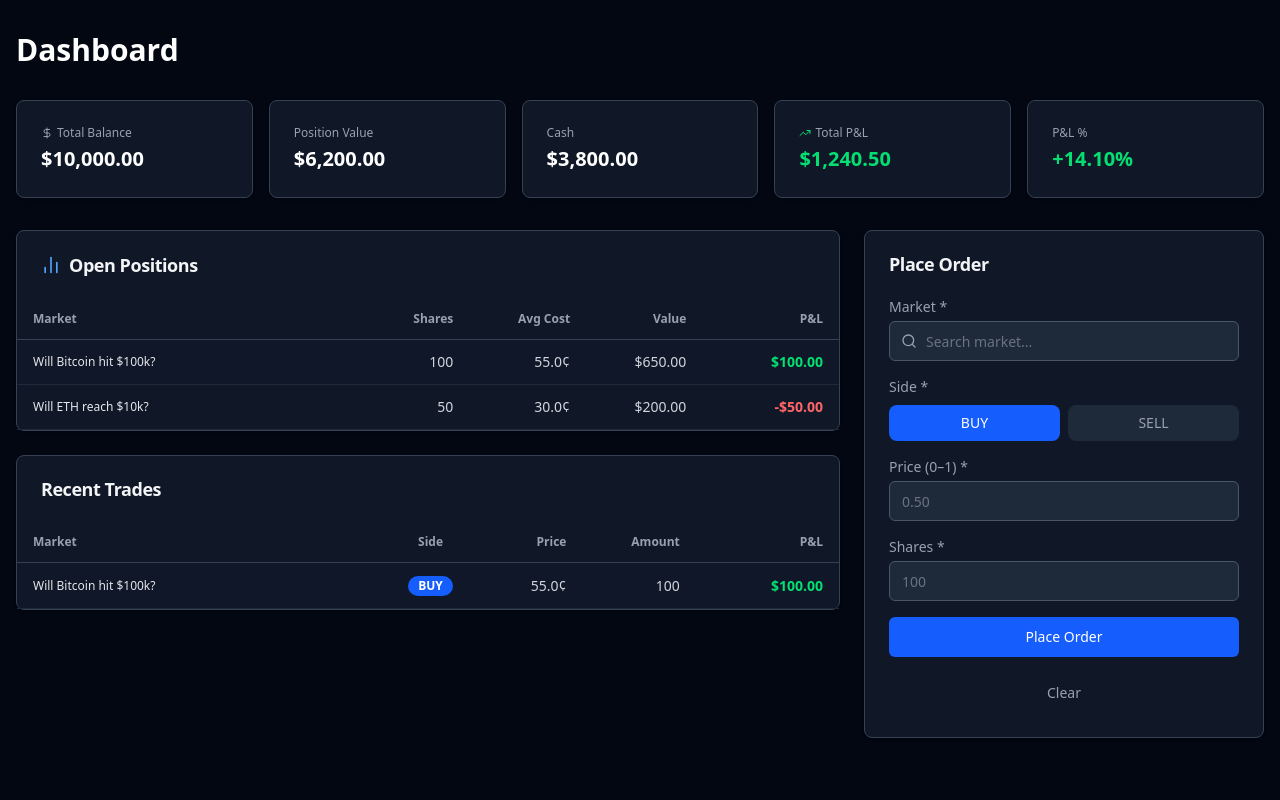
Task 1.8: Dashboard › Test 4: Click position shows detail modal
This screenshot has width=1280, height=800.
Expected: the heading "Open Positions" is shown, [41, 253, 198, 277]
Click the 1st row with test id "position-row".
click(428, 362)  # box [17, 340, 839, 384]
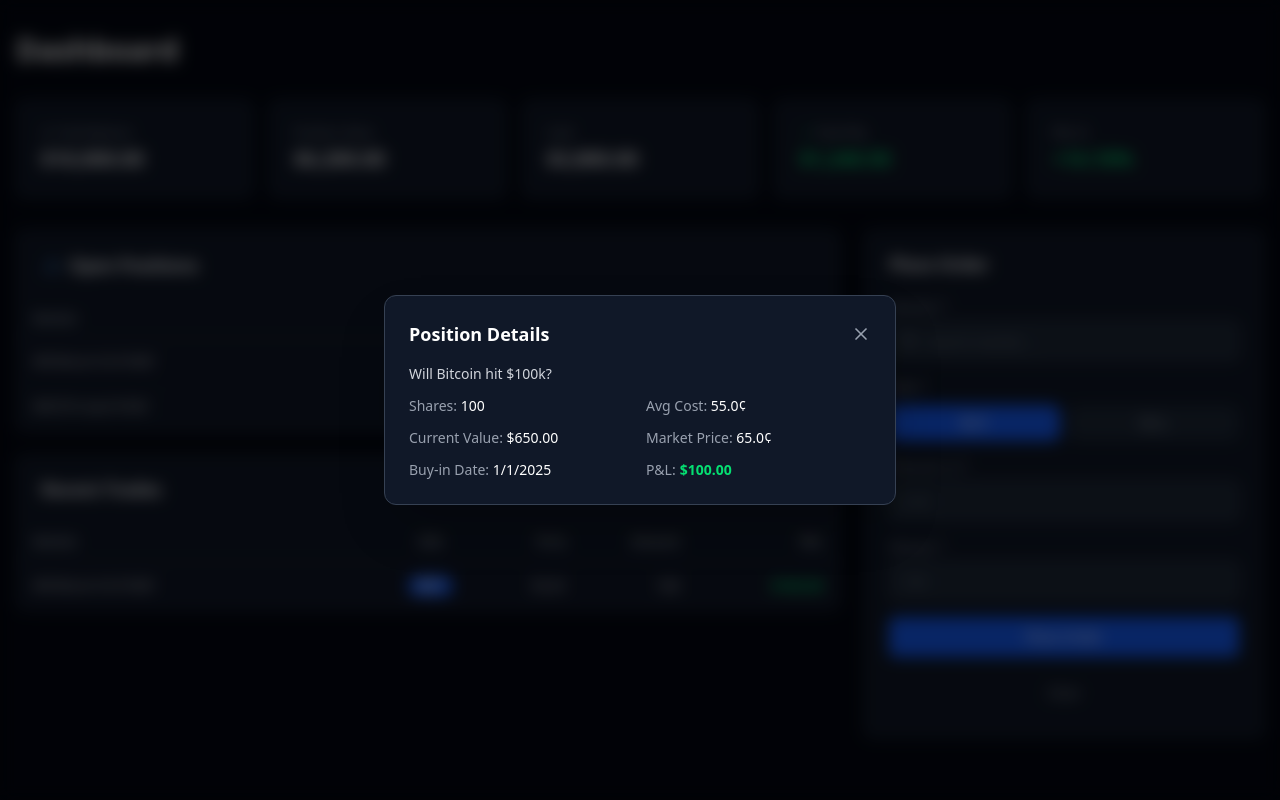
Expected: the heading "Position Details" is shown, [409, 320, 549, 348]
